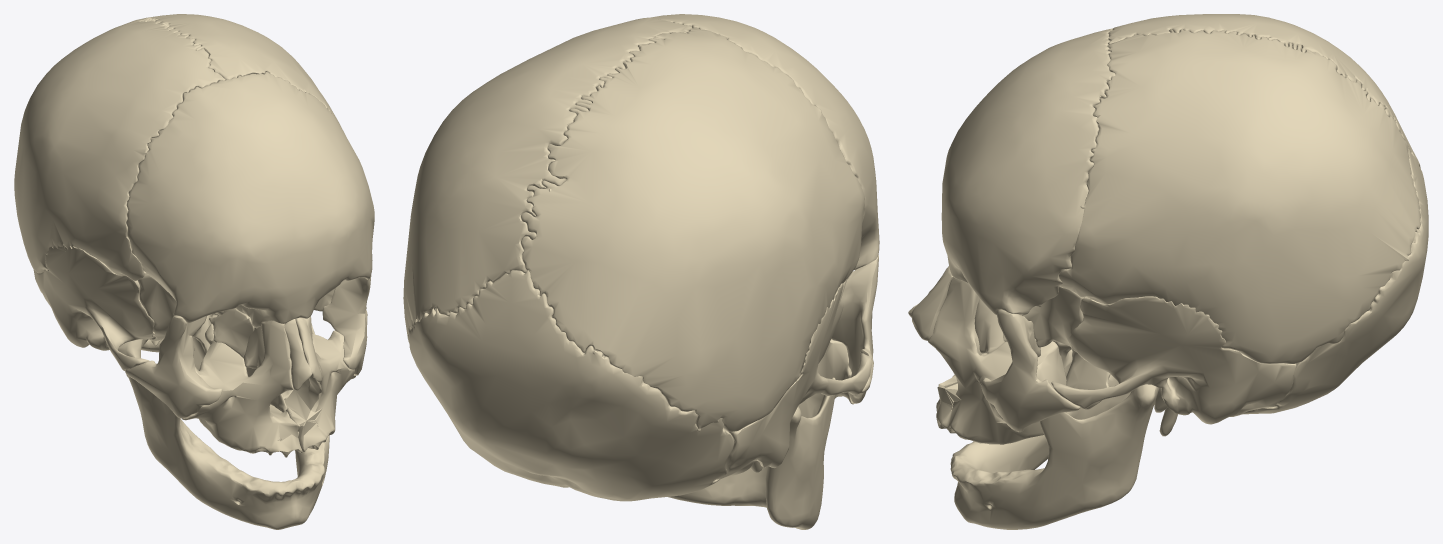
File: skull.glb
The picture shows the model from 3 angles, left to right: view 1: azimuth 30°, elevation 25°; view 2: azimuth 150°, elevation 25°; view 3: azimuth 270°, elevation 25°; orthographic projection. The views are drawn at different scales.
Visible parts, largest first — view 1: frontal bone, right parietal bone, mandible, right maxilla, right temporal bone, left parietal bone, right zygomatic bone, left maxilla, left zygomatic bone, sphenoid bone, ethmoid, right nasal bone (+2 smaller); view 2: right parietal bone, occipital bone, left parietal bone, frontal bone, mandible, right temporal bone, right zygomatic bone, right maxilla; view 3: left parietal bone, frontal bone, mandible, left temporal bone, left maxilla, occipital bone, right parietal bone, left zygomatic bone, sphenoid bone, left nasal bone, left lacrimal bone.
Part boxes in pixels (bbox=[...]): frontal bone: bbox=[126, 72, 374, 328]; right parietal bone: bbox=[14, 18, 225, 280]; mandible: bbox=[118, 324, 329, 529]; right maxilla: bbox=[182, 321, 302, 457]; right temporal bone: bbox=[33, 244, 154, 377]; left parietal bone: bbox=[138, 14, 345, 135]; right zygomatic bone: bbox=[125, 315, 222, 418]; left maxilla: bbox=[271, 316, 355, 451]; left zygomatic bone: bbox=[322, 275, 371, 375]; sphenoid bone: bbox=[138, 273, 344, 370]; ethmoid: bbox=[209, 308, 254, 358]; right nasal bone: bbox=[284, 319, 312, 390]; right parietal bone: bbox=[521, 27, 864, 431]; occipital bone: bbox=[408, 270, 734, 501]; left parietal bone: bbox=[403, 17, 692, 342]; frontal bone: bbox=[651, 14, 879, 269]; mandible: bbox=[668, 377, 835, 529]; right temporal bone: bbox=[717, 278, 872, 479]; right zygomatic bone: bbox=[831, 255, 878, 403]; right maxilla: bbox=[798, 339, 854, 417]; left parietal bone: bbox=[1059, 29, 1420, 363]; frontal bone: bbox=[941, 28, 1115, 315]; mandible: bbox=[950, 374, 1159, 529]; left temporal bone: bbox=[1051, 296, 1296, 436]; left maxilla: bbox=[928, 278, 1066, 444]; occipital bone: bbox=[1241, 147, 1428, 414]; right parietal bone: bbox=[1108, 14, 1420, 168]; left zygomatic bone: bbox=[981, 309, 1080, 431]; sphenoid bone: bbox=[1022, 286, 1110, 409]; left nasal bone: bbox=[911, 266, 953, 340]; left lacrimal bone: bbox=[974, 298, 1004, 353].
Bounding box in the file's own units: 0.151 × 0.2146 × 0.2088.
